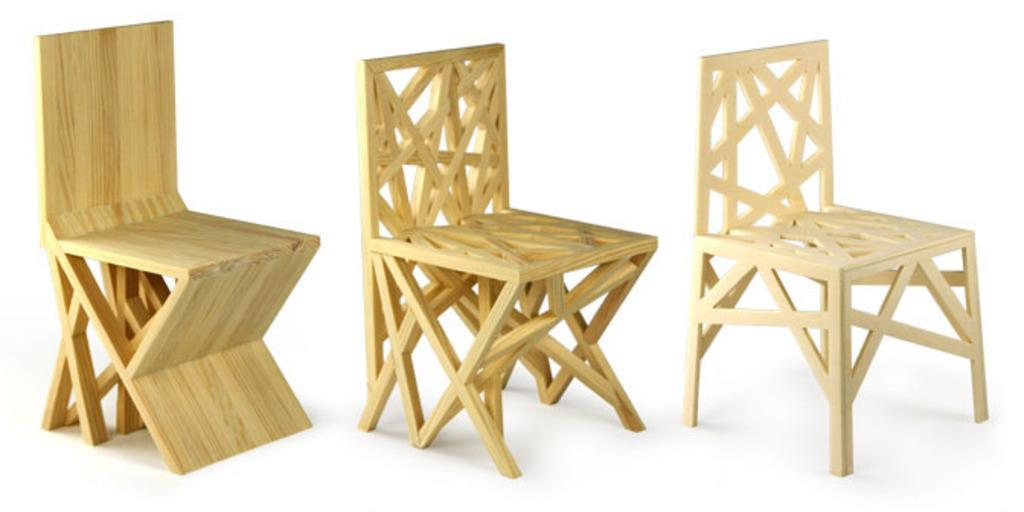Chair: (678, 37, 990, 478), (346, 40, 646, 483), (37, 15, 323, 474)
